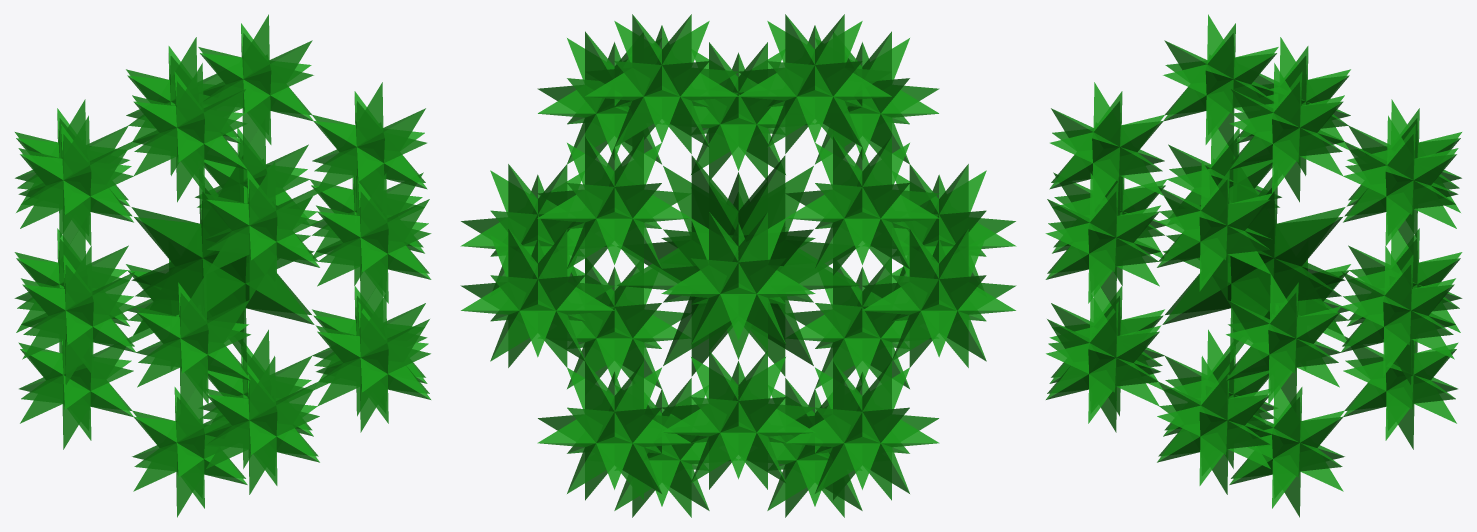
File: fractalgreatstellateddodecahedron1.glb
The picture shows the model from 3 angles, left to right: view 1: azimuth 30°, elevation 25°; view 2: azimuth 150°, elevation 25°; view 3: azimuth 270°, elevation 25°; orthographic projection. The views are drawn at different scales.
Size of the model in its own units: 10.98 by 10.39 by 9.
